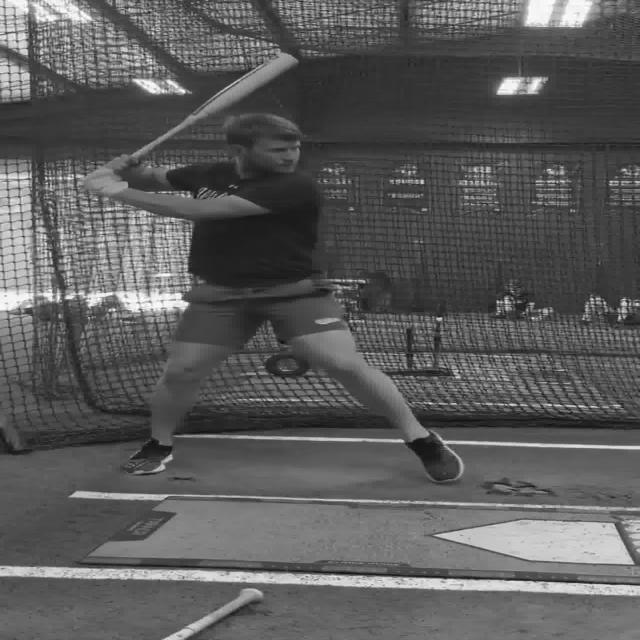base: (437, 519, 629, 568)
baseball_glove: (83, 166, 128, 197)
bat: (84, 52, 299, 193)
shoe: (404, 429, 464, 483), (120, 437, 174, 475)
